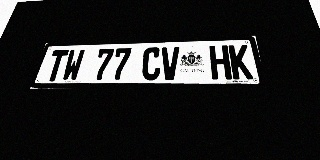7: (110, 48, 132, 81), (92, 49, 114, 81)
C: (141, 47, 161, 80)
H: (209, 45, 232, 80)
K: (228, 45, 254, 79)
T: (44, 50, 69, 81)
V: (160, 47, 179, 80)
W: (61, 49, 85, 81)
